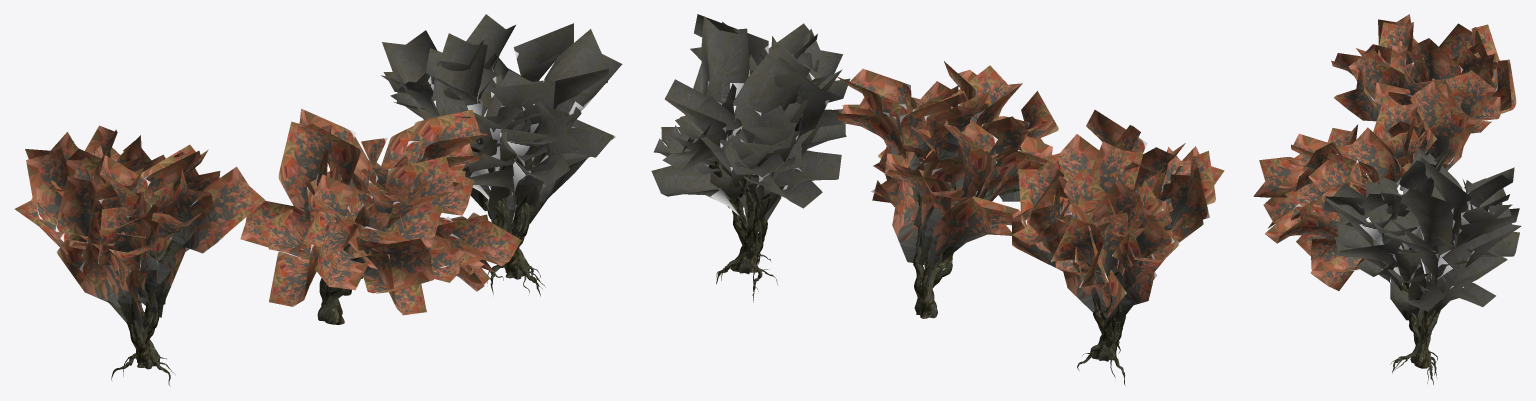
The model's file is model-quercus-robur.glb.
The picture shows the model from 3 angles, left to right: view 1: azimuth 30°, elevation 25°; view 2: azimuth 150°, elevation 25°; view 3: azimuth 270°, elevation 25°; orthographic projection. The views are drawn at different scales.
Parts seen in each view (by area): view 1: Object_6, Object_2, Object_3, Object_4, Object_5; view 2: Object_6, Object_2, Object_3, Object_5, Object_4; view 3: Object_6, Object_2, Object_3.
Part boxes in pixels (x1,y1,x2,y2): Object_6: [15, 109, 521, 326]; Object_2: [381, 14, 622, 232]; Object_3: [480, 150, 545, 296]; Object_4: [111, 259, 175, 386]; Object_5: [317, 247, 351, 324]; Object_6: [836, 61, 1224, 323]; Object_2: [651, 14, 850, 232]; Object_3: [716, 165, 778, 302]; Object_5: [913, 186, 1002, 318]; Object_4: [1077, 297, 1125, 385]; Object_6: [1253, 14, 1517, 290]; Object_2: [1321, 150, 1521, 325]; Object_3: [1390, 284, 1440, 384].
Bounding box in the file's own units: 60.94 × 27.78 × 31.56.
Materials: 4 (4 with a texture image).
